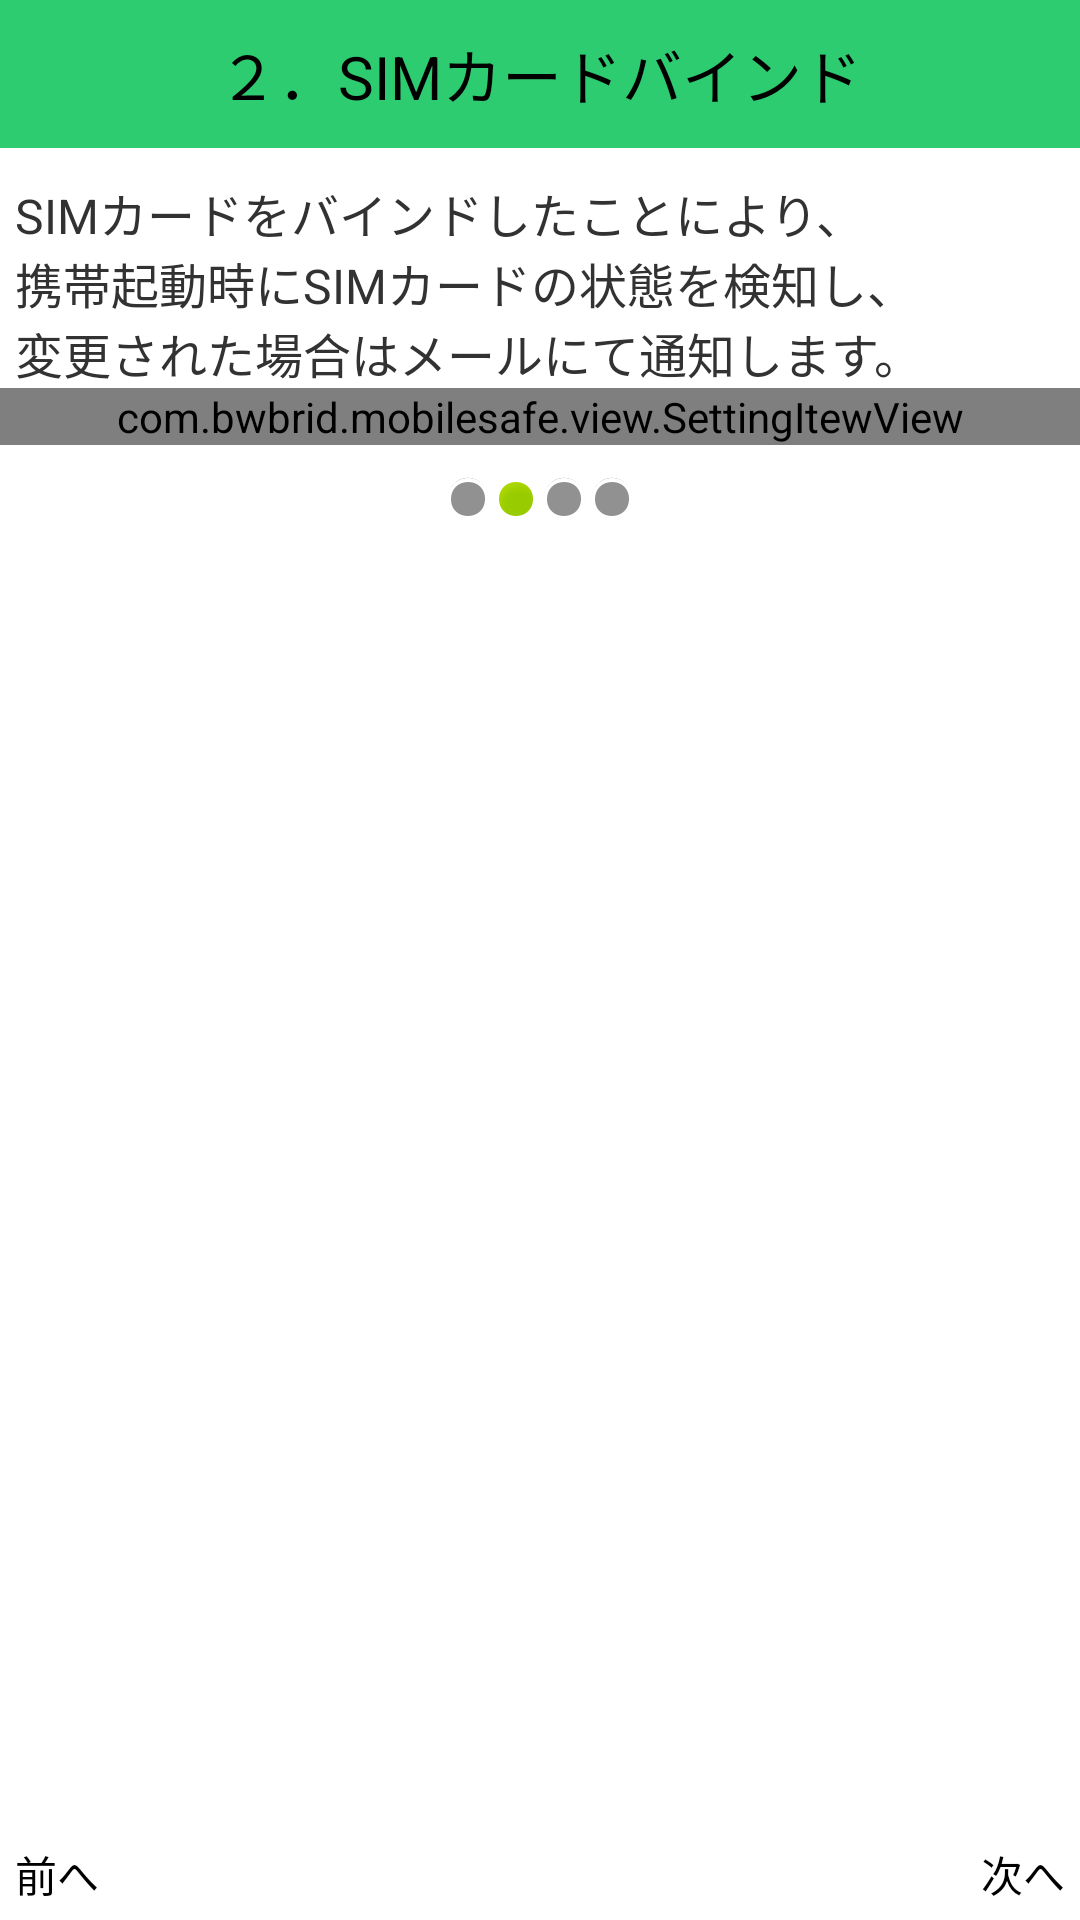

Point at icon controls on the screen. Image size 1080x1920, points as [x,y].
presence invisible: [468,497], [564,497], [612,497]
presence online: [516,499]
